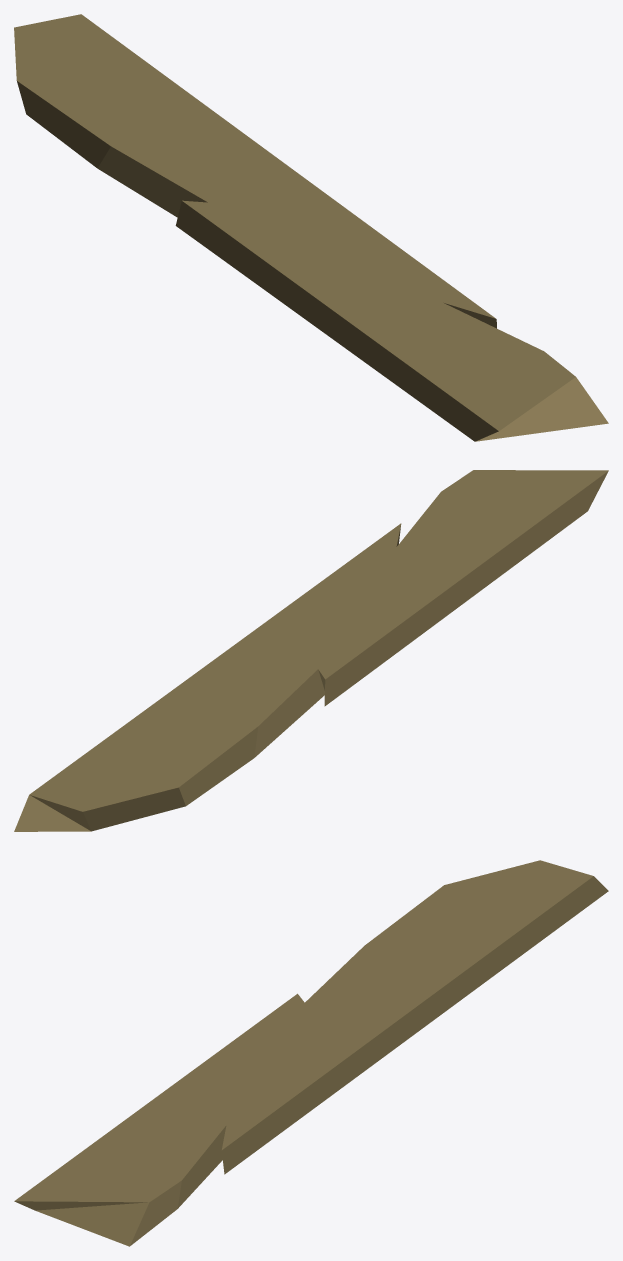
Rendered from Plank.fbx.
The picture shows the model from 3 angles, top to bottom: view 1: azimuth 30°, elevation 25°; view 2: azimuth 150°, elevation 25°; view 3: azimuth 330°, elevation 25°; orthographic projection. The views are drawn at different scales.
Parts seen in each view (by area): view 1: Plank; view 2: Plank; view 3: Plank.
Boxes of the visible parts, bbox=[...] form: Plank: bbox=[14, 14, 608, 441]; Plank: bbox=[14, 470, 608, 831]; Plank: bbox=[14, 860, 608, 1246].
Bounding box in the file's own units: 14.67 × 3.36 × 113.
